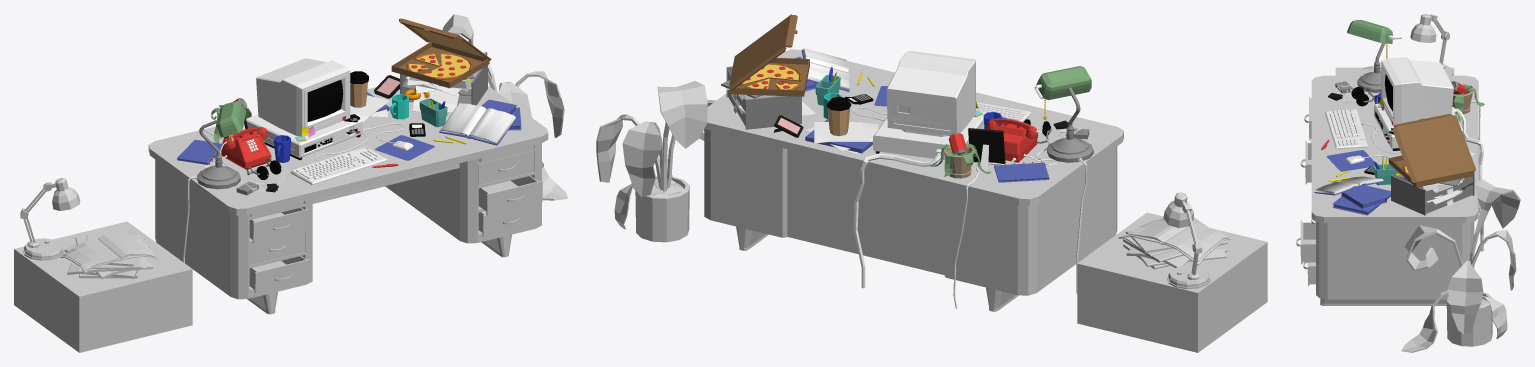
The model's file is Messy Desk.fbx.
The picture shows the model from 3 angles, left to right: view 1: azimuth 30°, elevation 25°; view 2: azimuth 150°, elevation 25°; view 3: azimuth 270°, elevation 25°; orthographic projection. The views are drawn at different scales.
Visible parts, largest first — view 1: Desk, Clutter, Box, Pot; view 2: Desk, Clutter, Box, Pot; view 3: Desk, Clutter, Pot, Box.
Boxes of the visible parts, x1,y1,x2,y2 form: Desk: (148, 86, 548, 314); Clutter: (177, 18, 521, 263); Box: (14, 178, 192, 352); Pot: (442, 14, 567, 200); Desk: (704, 49, 1123, 311); Clutter: (721, 14, 1093, 308); Box: (1077, 192, 1267, 352); Pot: (596, 81, 715, 242); Desk: (1300, 75, 1478, 305); Clutter: (1314, 20, 1484, 251); Pot: (1401, 179, 1520, 352); Box: (1335, 14, 1454, 75).
Bounding box in the file's own units: 346 × 116 × 134.
